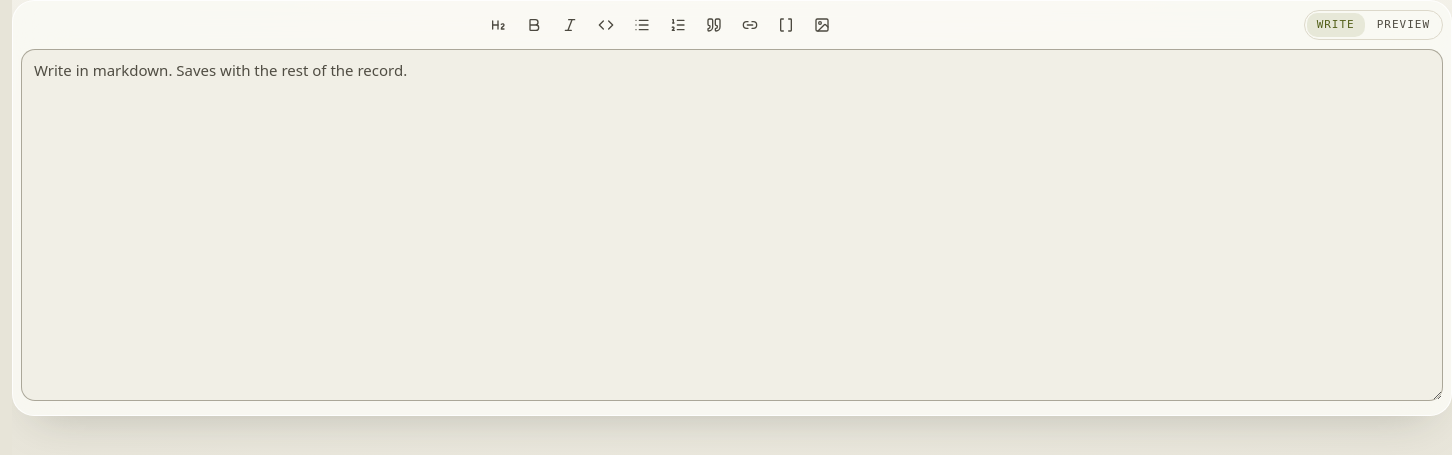
Test: MarkdownEditor › opens the slash menu only at a line start and applies the chosen command
Type "/" into the text box named "Markdown body".
click(732, 225); type("/")  # box [21,49,1443,401]
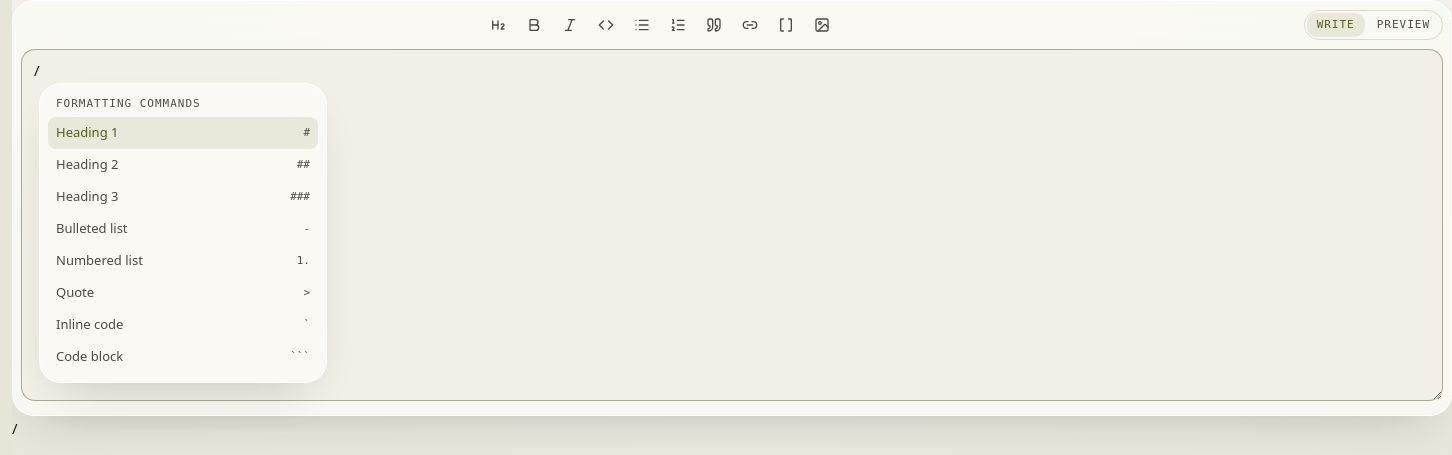
Expected: the text "Formatting commands" is shown, [56,97,201,110]
Expected: the list named "Commands" is shown, [48,116,318,374]
Replace the text in the text box named "Markdown body" with "/quo" at (732, 225), box [21,49,1443,401]
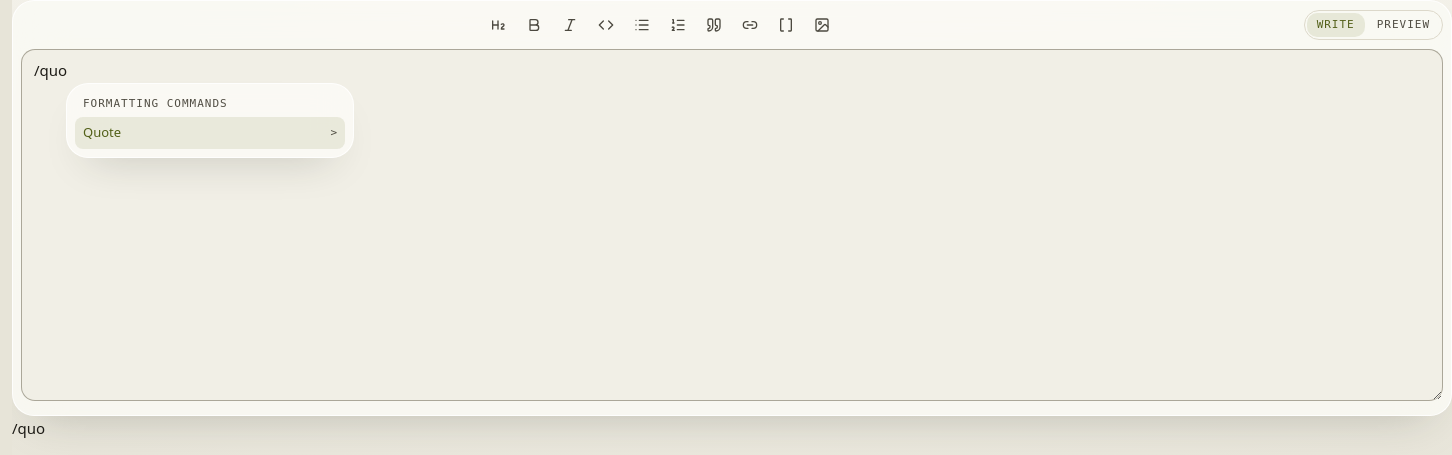
Expected: the option "Quote >" is shown, [75,116,345,148]
Expected: the option "Bulleted list" is gone
Press Enter in the text box named "Markdown body"
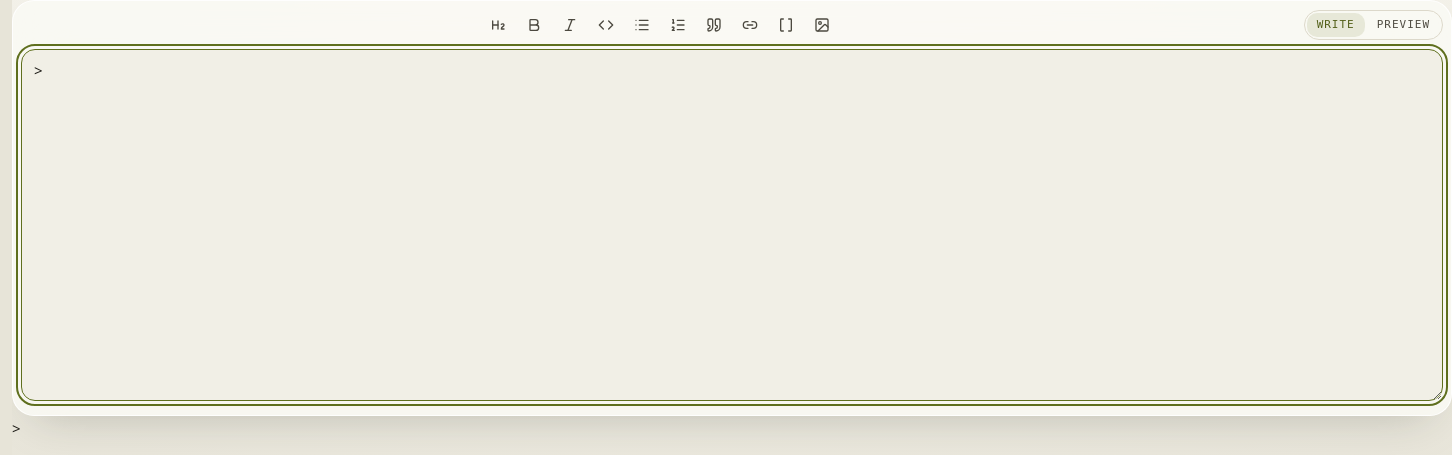
Expected: the text box named "Markdown body" holds "> "
Expected: the text "Formatting commands" is gone
Expected: the text ">" is shown, [12,418,21,438]
